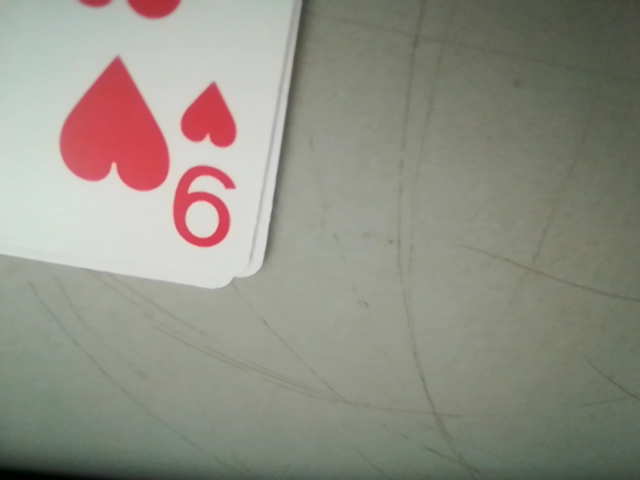hx 9: (166, 78, 252, 264)
